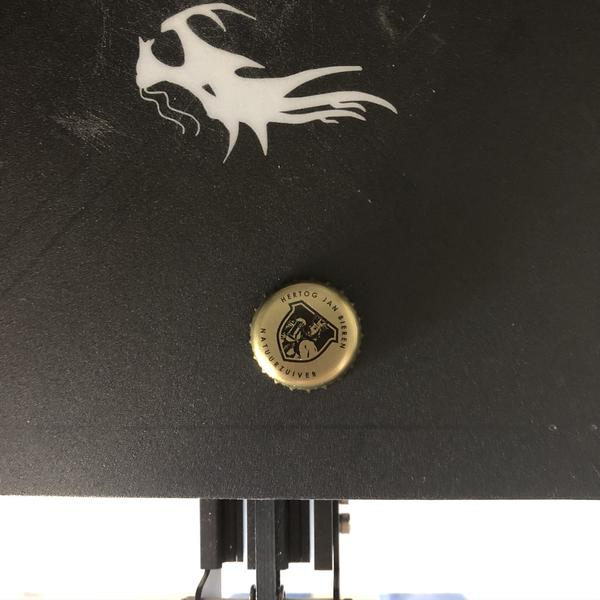hertogjan: (250, 283, 360, 391)
